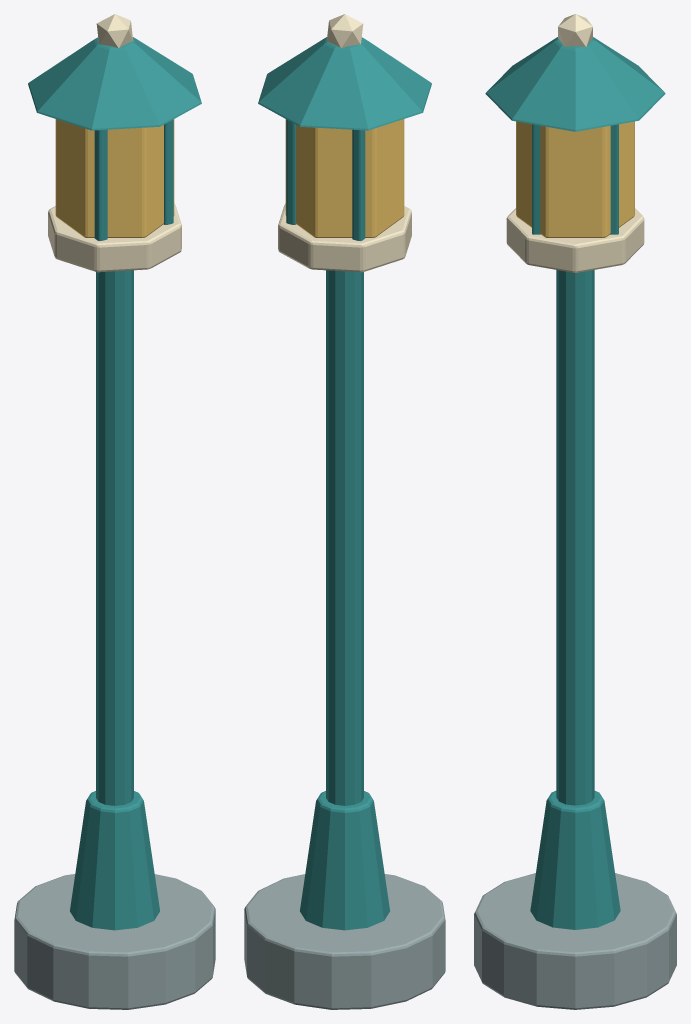
Rendered from S051_street_lamp.glb.
3 views of the same model, side by side, from view 1: azimuth 30°, elevation 25°; view 2: azimuth 150°, elevation 25°; view 3: azimuth 270°, elevation 25° (orthographic).
Visible parts, largest first — view 1: lamp_pole, lamp_foundation, lantern_roof, fake_glowing_lantern, lamp_base, lantern_bottom, lantern_stile.002, lantern_stile.003, lamp_finial; view 2: lamp_pole, lamp_foundation, lantern_roof, fake_glowing_lantern, lamp_base, lantern_bottom, lantern_stile.001, lantern_stile, lamp_finial; view 3: lamp_pole, lamp_foundation, lantern_roof, fake_glowing_lantern, lamp_base, lantern_bottom, lantern_stile, lantern_stile.003, lamp_finial.
Boxes of the visible parts, x1=… form: lamp_pole: x1=96, y1=270, x2=133, y2=805; lamp_foundation: x1=14, y1=874, x2=215, y2=1009; lantern_roof: x1=28, y1=37, x2=201, y2=130; fake_glowing_lantern: x1=55, y1=119, x2=174, y2=237; lamp_base: x1=70, y1=791, x2=159, y2=930; lantern_bottom: x1=48, y1=203, x2=181, y2=272; lantern_stile.002: x1=94, y1=129, x2=107, y2=240; lantern_stile.003: x1=163, y1=119, x2=173, y2=224; lamp_finial: x1=96, y1=14, x2=133, y2=48; lamp_pole: x1=326, y1=270, x2=363, y2=805; lamp_foundation: x1=244, y1=874, x2=445, y2=1009; lantern_roof: x1=258, y1=37, x2=431, y2=130; fake_glowing_lantern: x1=285, y1=119, x2=404, y2=237; lamp_base: x1=300, y1=791, x2=389, y2=930; lantern_bottom: x1=278, y1=203, x2=411, y2=272; lantern_stile.001: x1=352, y1=129, x2=365, y2=240; lantern_stile: x1=286, y1=119, x2=296, y2=224; lamp_finial: x1=326, y1=14, x2=363, y2=48; lamp_pole: x1=556, y1=270, x2=594, y2=805; lamp_foundation: x1=474, y1=873, x2=676, y2=1009; lantern_roof: x1=485, y1=37, x2=665, y2=131; fake_glowing_lantern: x1=516, y1=121, x2=634, y2=237; lamp_base: x1=530, y1=791, x2=620, y2=929; lantern_bottom: x1=506, y1=208, x2=644, y2=272; lantern_stile: x1=610, y1=124, x2=618, y2=234; lantern_stile.003: x1=532, y1=124, x2=540, y2=234; lamp_finial: x1=558, y1=14, x2=592, y2=46.
Size of the model in its own units: 0.64 by 3.32 by 0.64.
